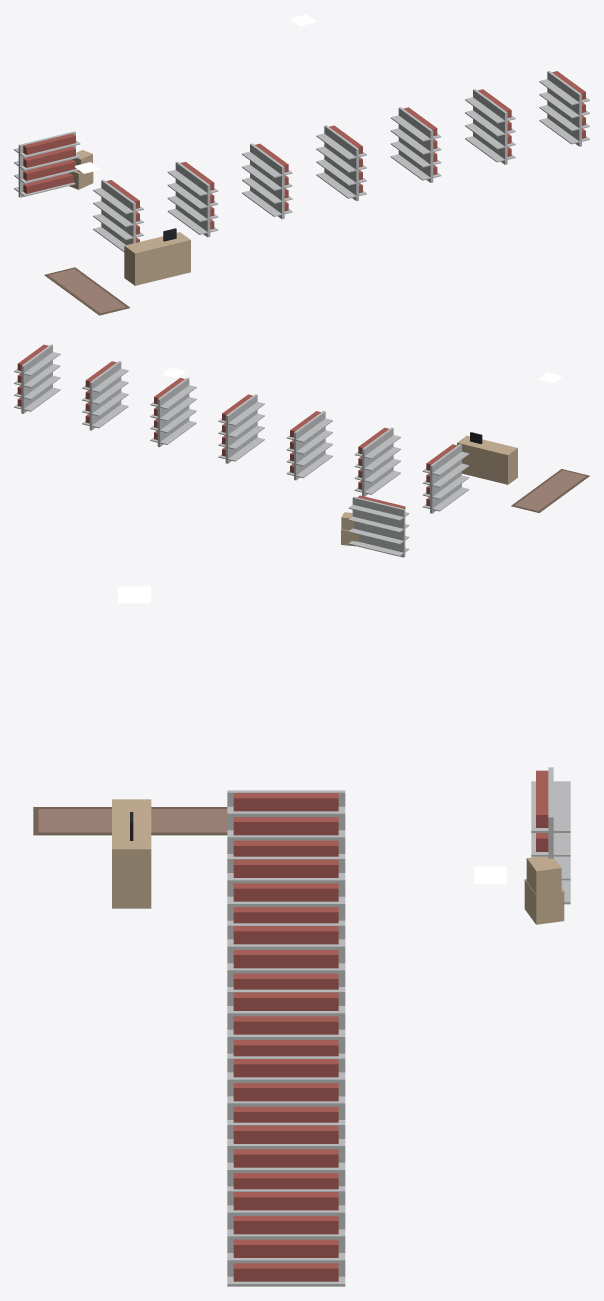
File: fine-s0.glb
3 renders of one model, top to bottom at view 1: azimuth 30°, elevation 25°; view 2: azimuth 150°, elevation 25°; view 3: azimuth 270°, elevation 25°, orthographic. The views are drawn at different scales.
Parts seen in each view (by area): view 1: shelving.000, shop-counter.000, shelf.004, shelf.001, shelf.005, shelf.003, shelf.002, shelf.006, shelf.000, soft-s0, cardboard-box.000; view 2: shelving.000, shop-counter.000, shelf.005, shelf.004, shelf.000, shelf.006, shelf.001, shelf.003, shelf.002, soft-s0, cardboard-box.000; view 3: shelf.006, shelf.001, shelf.003, shelf.005, shelf.000, shelf.002, shelf.004, soft-s0, shop-counter.000, shelving.000, cardboard-box.000.
Part boxes in pixels (left/top/right/bottom): shelving.000: left=14, top=131, right=80, bottom=197; shop-counter.000: left=124, top=228, right=190, bottom=285; shelf.004: left=390, top=107, right=441, bottom=182; shelf.001: left=167, top=161, right=218, bottom=237; shelf.005: left=465, top=89, right=515, bottom=164; shelf.003: left=316, top=125, right=366, bottom=201; shelf.002: left=242, top=143, right=292, bottom=219; shelf.006: left=539, top=71, right=589, bottom=146; shelf.000: left=93, top=179, right=143, bottom=251; soft-s0: left=44, top=267, right=129, bottom=315; cardboard-box.000: left=69, top=150, right=93, bottom=189; shelving.000: left=348, top=495, right=409, bottom=557; shop-counter.000: left=457, top=432, right=517, bottom=484; shelf.005: left=82, top=361, right=128, bottom=430; shelf.004: left=150, top=377, right=196, bottom=447; shelf.000: left=422, top=444, right=469, bottom=513; shelf.006: left=14, top=344, right=60, bottom=413; shelf.001: left=354, top=427, right=400, bottom=496; shelf.003: left=218, top=394, right=264, bottom=463; shelf.002: left=286, top=411, right=332, bottom=480; soft-s0: left=511, top=469, right=589, bottom=512; cardboard-box.000: left=341, top=512, right=358, bottom=546; shelf.006: left=227, top=1189, right=345, bottom=1286; shelf.001: left=227, top=856, right=345, bottom=923; shelf.003: left=227, top=989, right=345, bottom=1056; shelf.005: left=227, top=1122, right=345, bottom=1189; shelf.000: left=227, top=790, right=345, bottom=856; shelf.002: left=227, top=923, right=345, bottom=989; shelf.004: left=227, top=1056, right=345, bottom=1122; soft-s0: left=33, top=807, right=227, bottom=835; shop-counter.000: left=112, top=799, right=151, bottom=908; shelving.000: left=531, top=767, right=570, bottom=904; cardboard-box.000: left=524, top=856, right=564, bottom=924.
Size of the model in its own units: 17.54 by 3.84 by 8.2.
